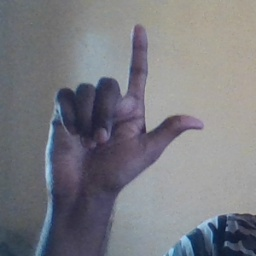L: (42, 23, 204, 201)
